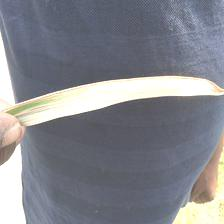2 BacterialBlight: (33, 74, 224, 100)
